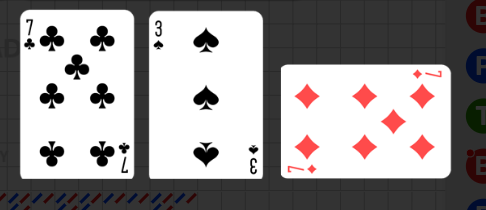7C: (23, 18, 37, 52)
7D: (286, 163, 319, 176), (411, 68, 443, 80)
